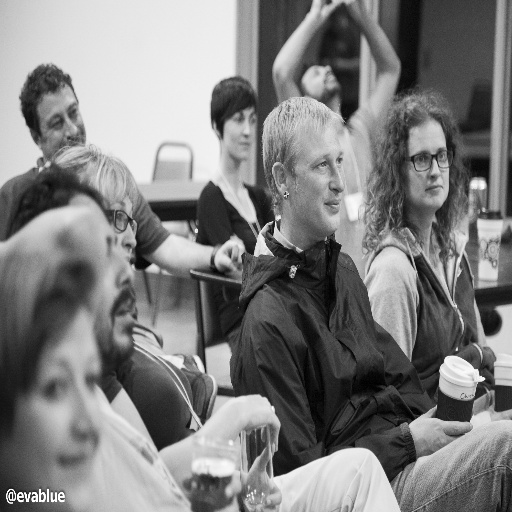hand: (408, 402, 472, 457), (245, 440, 282, 511), (183, 467, 240, 511), (234, 394, 280, 444), (213, 237, 245, 273), (309, 0, 343, 22), (486, 399, 511, 420), (345, 0, 368, 19)
